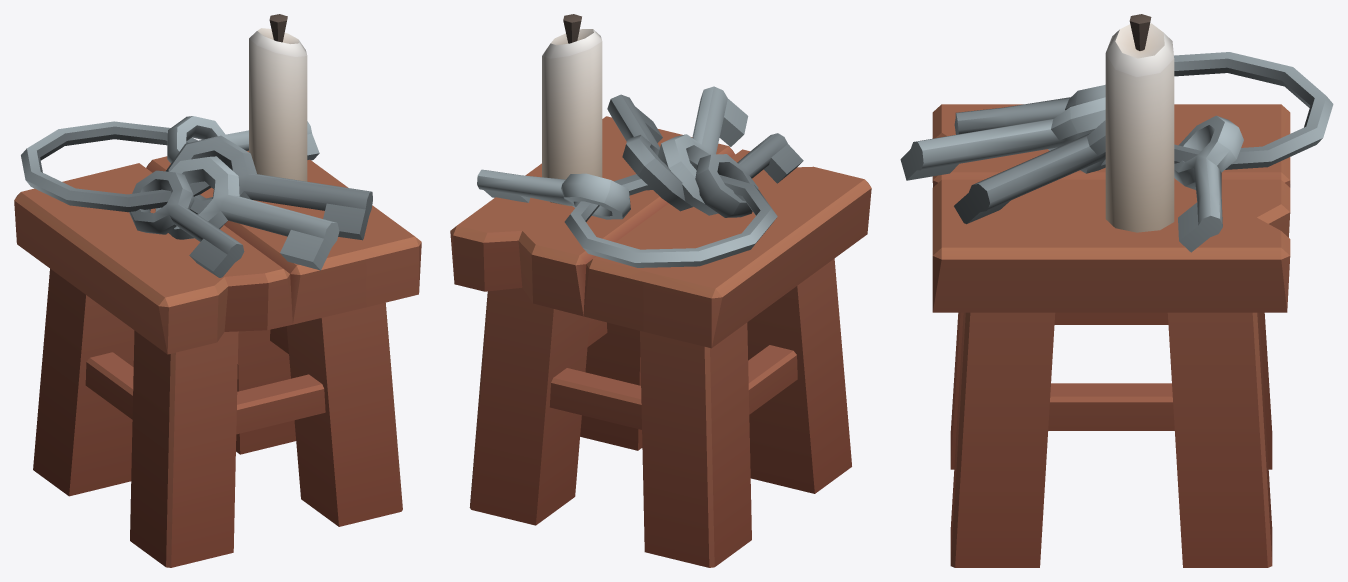
File: table_small_decorated_A.gltf
3 renders of one model, left to right at view 1: azimuth 30°, elevation 25°; view 2: azimuth 150°, elevation 25°; view 3: azimuth 270°, elevation 25°, orthographic. The views are drawn at different scales.
Visible parts, largest first — view 1: table_small_decorated_A; view 2: table_small_decorated_A; view 3: table_small_decorated_A.
Part boxes in pixels (x1=…): table_small_decorated_A: x1=14, y1=14, x2=421, y2=567; table_small_decorated_A: x1=450, y1=14, x2=871, y2=567; table_small_decorated_A: x1=900, y1=14, x2=1333, y2=567.
Bounding box in the file's own units: 1.04 × 1.62 × 1.21.
1 material, 1 textured.
